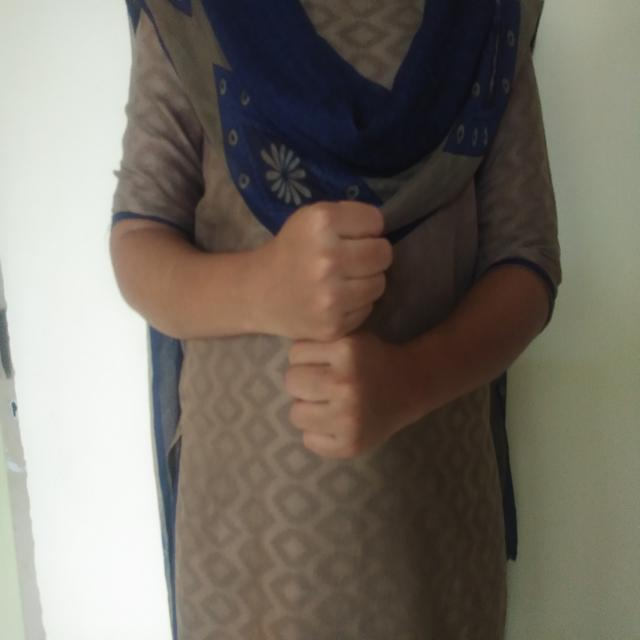G: (233, 180, 449, 488)
